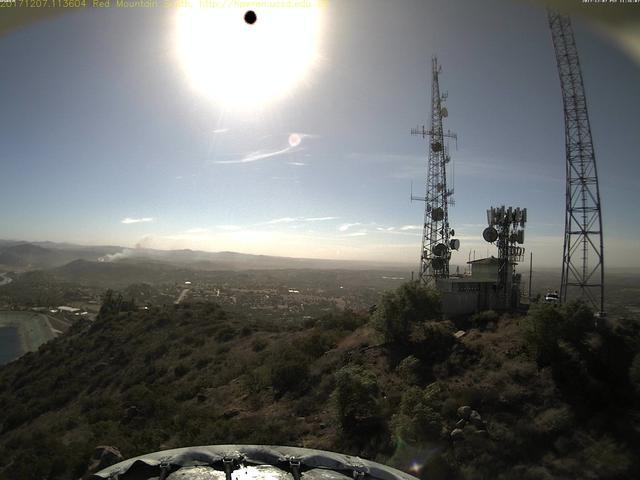smoke: (88, 231, 165, 266)
